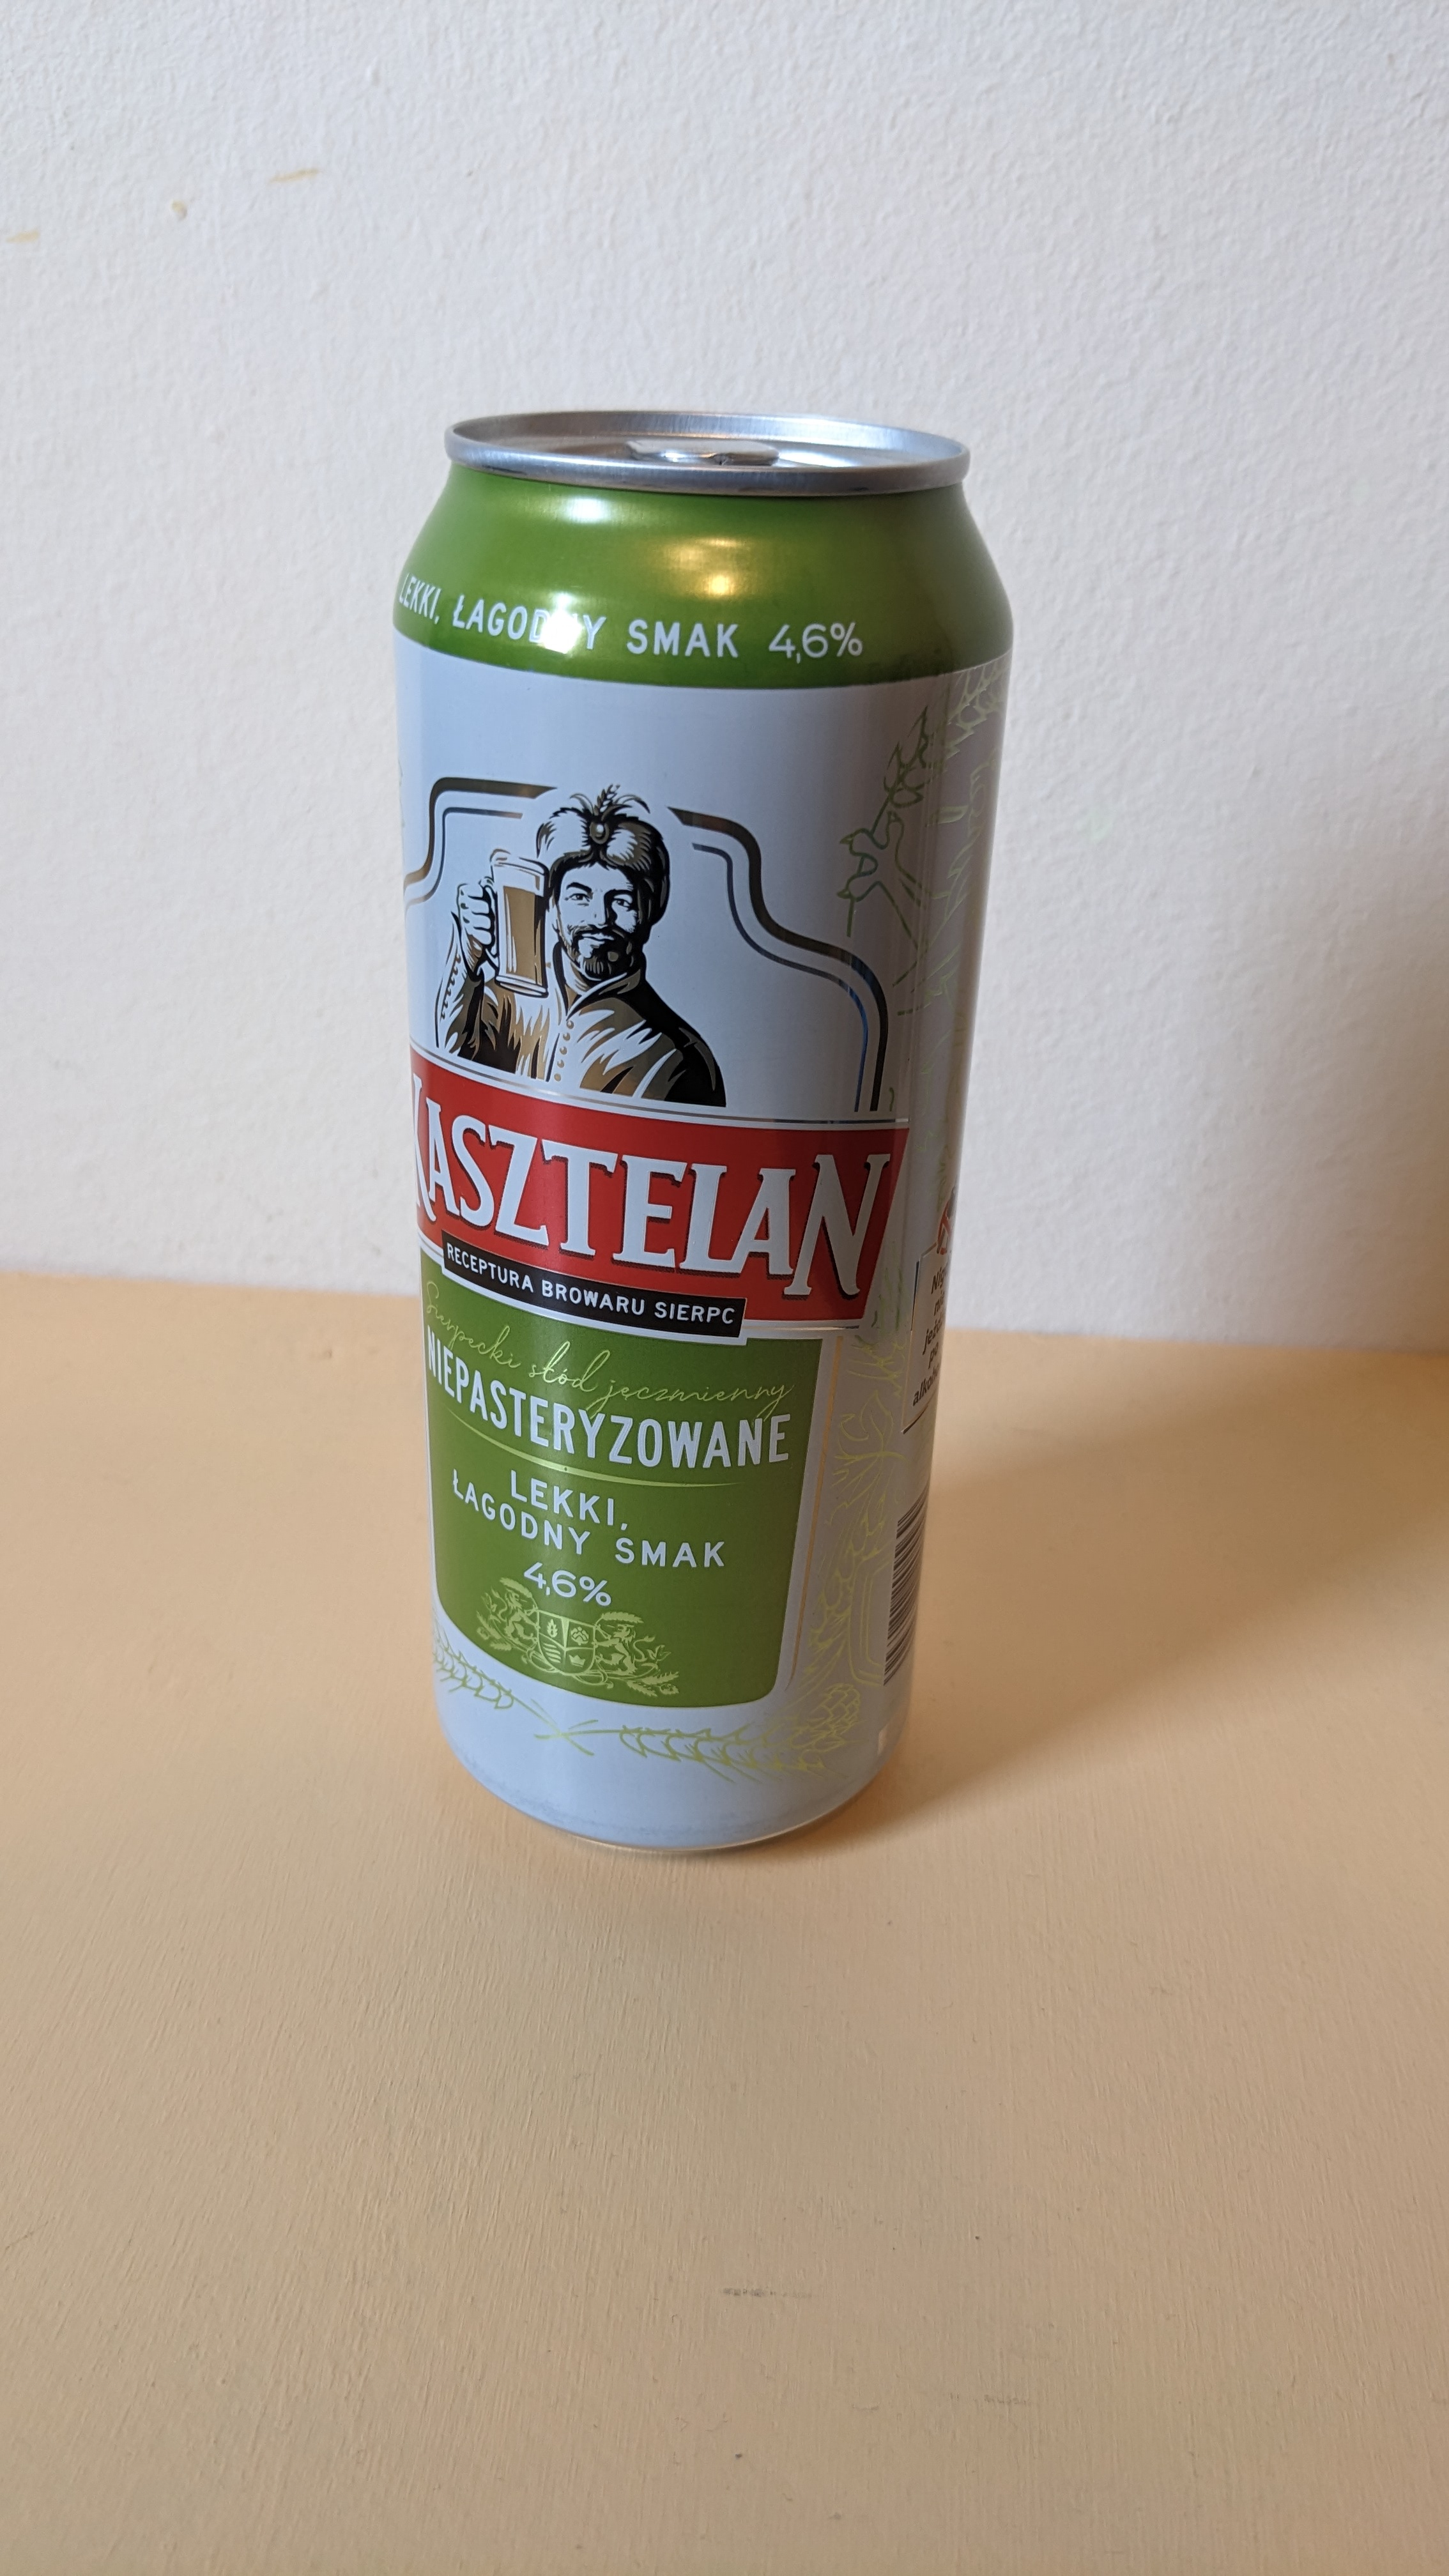kasztelan: (386, 359, 996, 1882)
